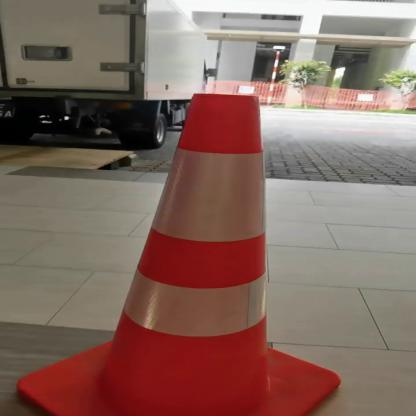cone: (2, 80, 362, 416)
